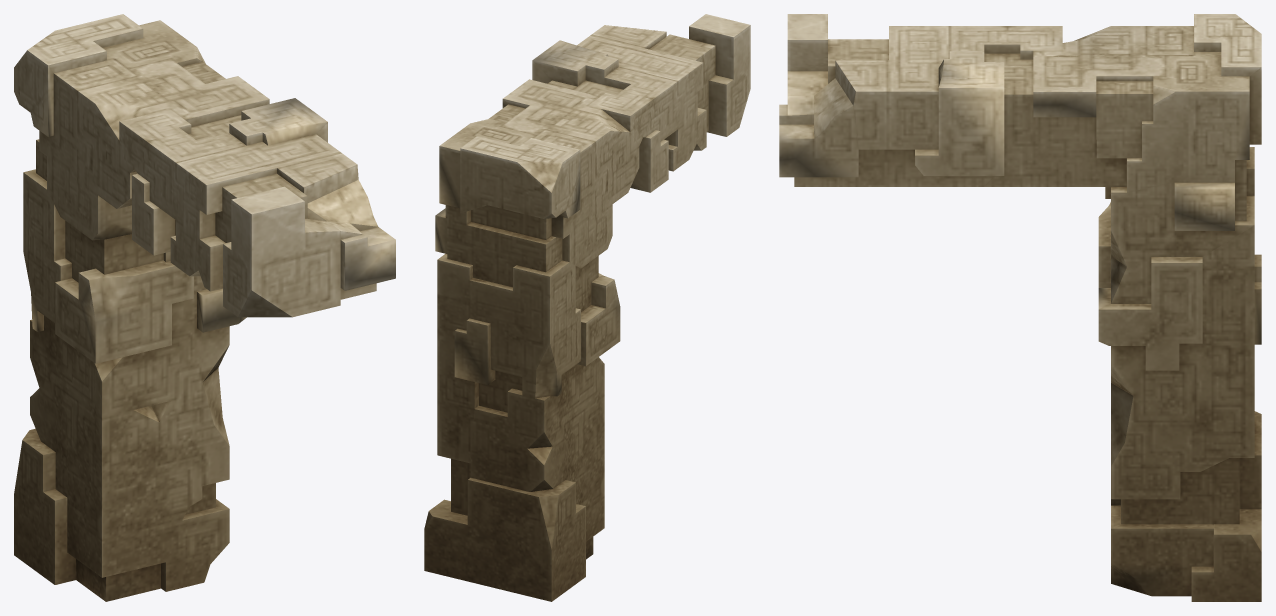
The model's file is stone_23.FBX.
The picture shows the model from 3 angles, left to right: view 1: azimuth 30°, elevation 25°; view 2: azimuth 150°, elevation 25°; view 3: azimuth 270°, elevation 25°; orthographic projection. The views are drawn at different scales.
Visible parts, largest first — view 1: stone_23; view 2: stone_23; view 3: stone_23.
Boxes of the visible parts, x1,y1,x2,y2 form: stone_23: (14,14,395,601); stone_23: (424,14,750,601); stone_23: (779,14,1261,601).
Bounding box in the file's own units: 188 × 608 × 517.
